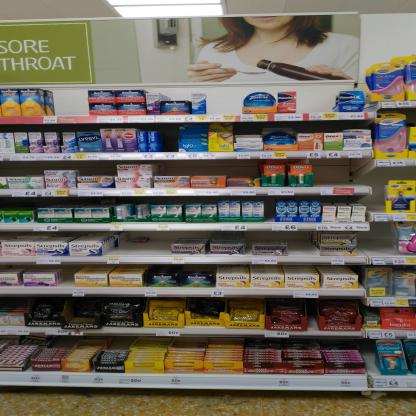Void: (157, 162, 260, 175), (114, 234, 167, 255), (315, 160, 358, 185), (51, 89, 87, 114), (205, 90, 240, 112), (366, 170, 384, 212), (300, 90, 336, 110), (372, 226, 396, 253), (76, 161, 117, 175), (290, 232, 315, 254), (6, 162, 40, 177), (364, 341, 378, 373), (160, 126, 178, 150), (2, 196, 33, 209), (172, 229, 209, 238), (61, 264, 73, 286), (161, 90, 189, 99), (48, 162, 72, 169), (254, 232, 286, 237), (266, 202, 274, 221)
